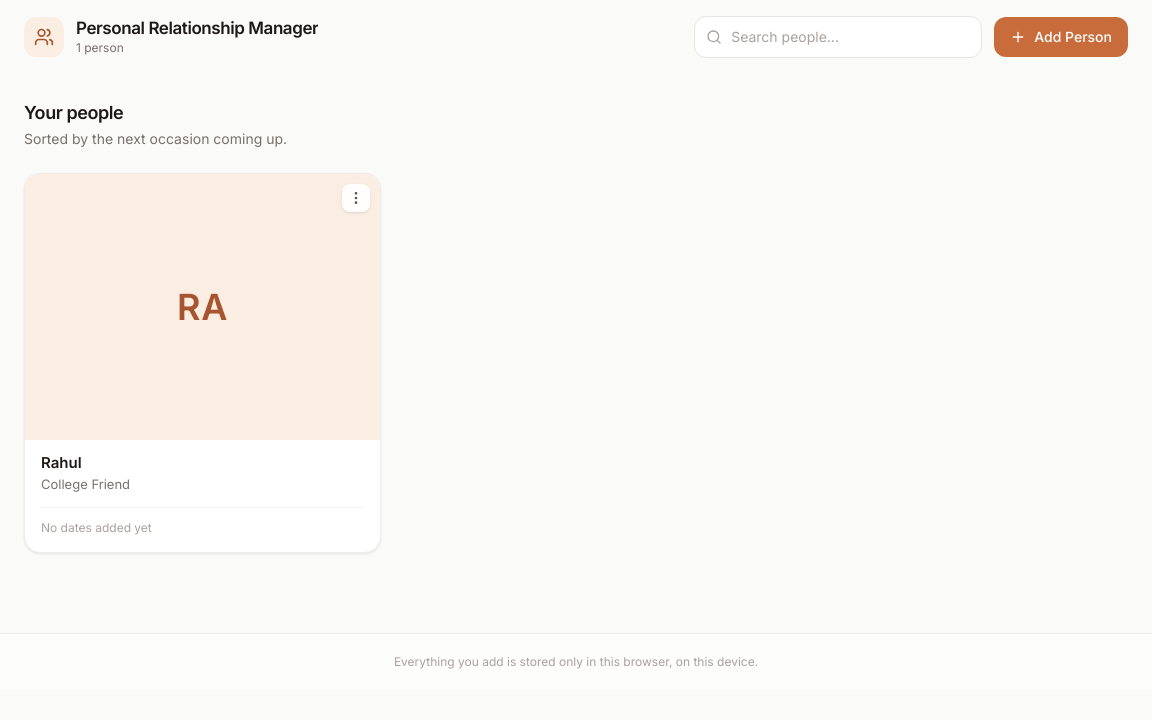
Test case: HomePage › shows a search empty state that can be cleared
Expected: the heading "Rahul" is shown, [41,454,82,472]
Type "zzz" into the search field labelled "Search people..." at (838,37), box [694,16,982,58]
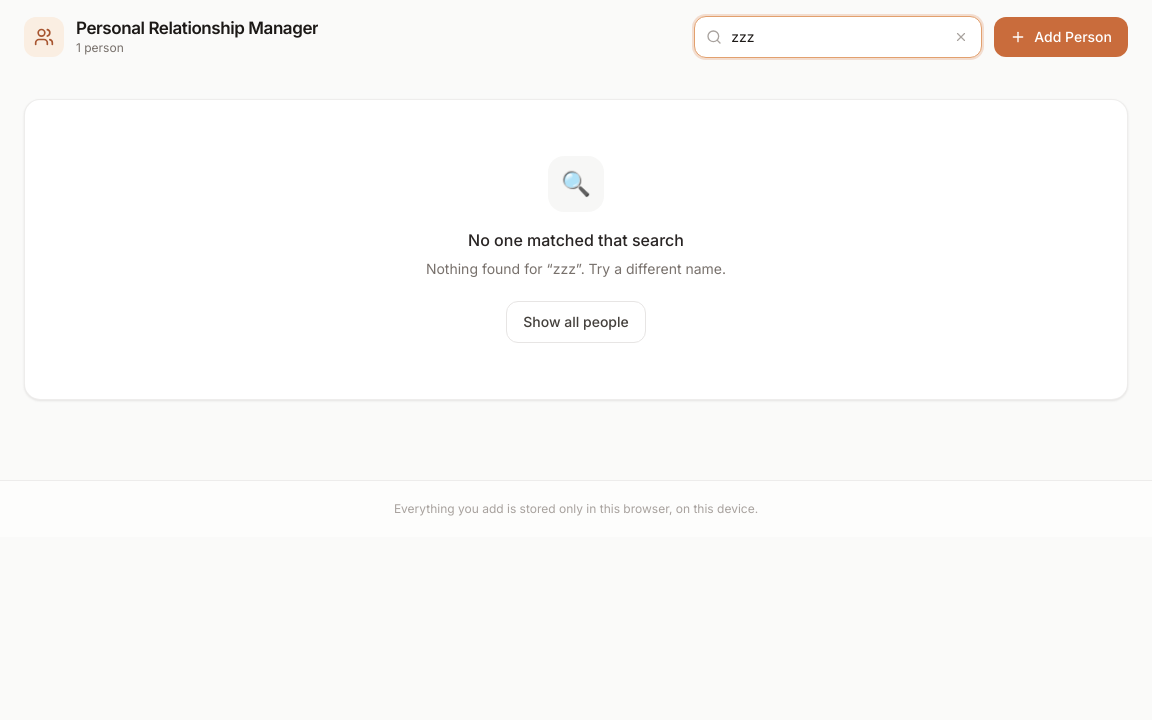
Now the heading "No one matched that search" is shown, box [468,228,684,252]
Click the button "Show all people" at (576,322), box [506,301,646,343]
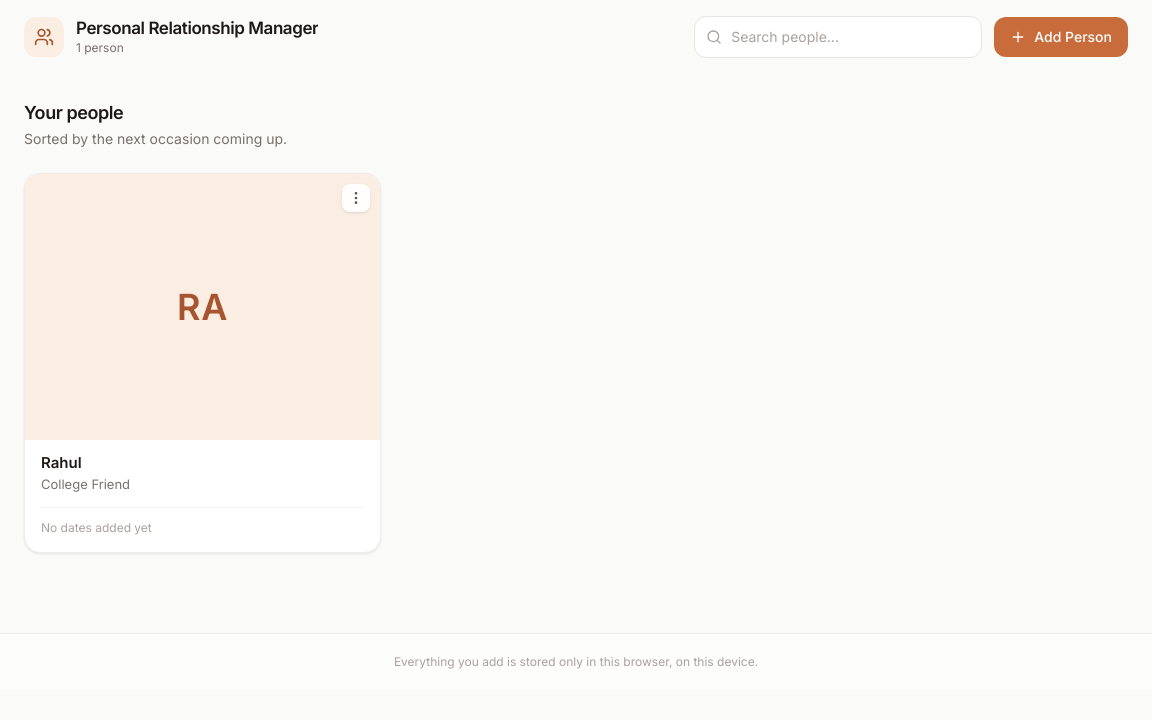
Now the heading "Rahul" is shown, box [41,454,82,472]
